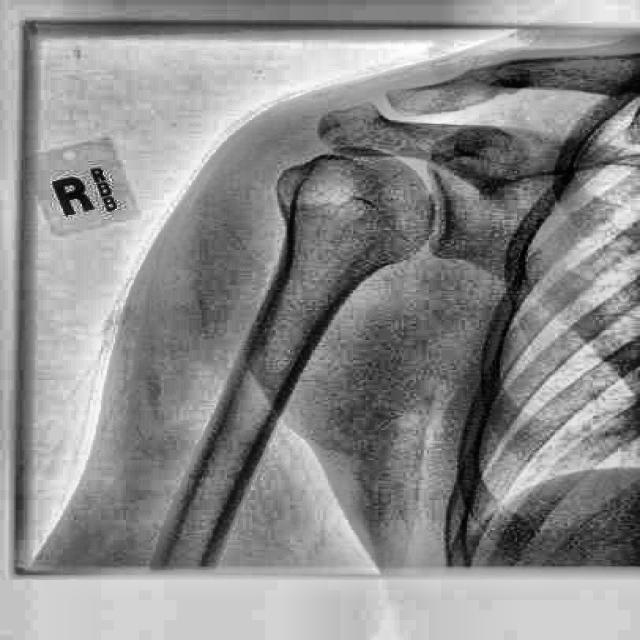shoulder fracture: (440, 47, 563, 114)
